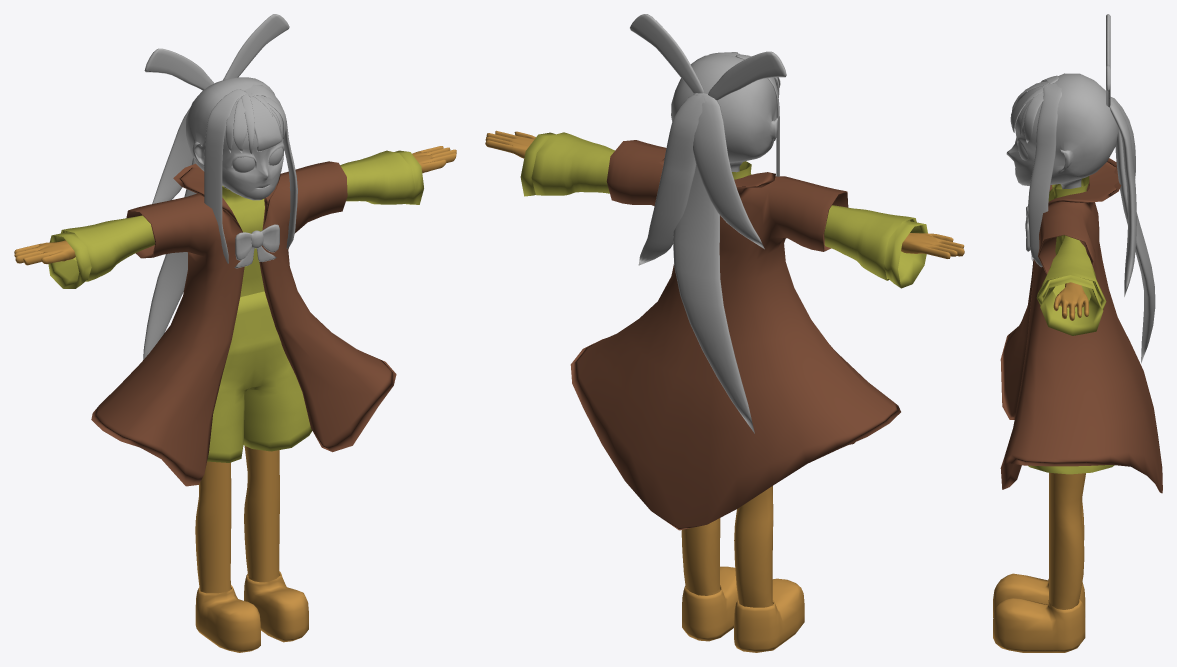
Rendered from shuzinkou_center.fbx.
3 views of the same model, side by side, from view 1: azimuth 30°, elevation 25°; view 2: azimuth 150°, elevation 25°; view 3: azimuth 270°, elevation 25° (orthographic). The views are drawn at different scales.
Visible parts, largest first — view 1: kao1, pCylinder2, pCylinder6, pCylinder5, pCube1, pasted__pCube1, ribon, pasted__pCylinder2, maegami1; view 2: kao1, pCylinder6, pasted__pCylinder5, pCylinder5, pCube1, pasted__pCube1; view 3: kao1, pasted__pCylinder2, pCylinder6, pasted__pCylinder5, pasted__pCylinder4, maegami1, pCylinder5.
Boxes of the visible parts, bbox=[...] form: kao1: bbox=[14, 77, 456, 652]; pCylinder2: bbox=[204, 89, 246, 263]; pCylinder6: bbox=[143, 158, 196, 359]; pCylinder5: bbox=[152, 107, 192, 203]; pCube1: bbox=[144, 48, 214, 90]; pasted__pCube1: bbox=[223, 14, 289, 79]; ribon: bbox=[234, 224, 279, 268]; pasted__pCylinder2: bbox=[244, 84, 297, 248]; maegami1: bbox=[250, 96, 281, 151]; kao1: bbox=[485, 54, 964, 652]; pCylinder6: bbox=[673, 165, 754, 433]; pasted__pCylinder5: bbox=[638, 93, 711, 265]; pCylinder5: bbox=[693, 93, 764, 249]; pCube1: bbox=[708, 51, 786, 100]; pasted__pCube1: bbox=[630, 14, 703, 93]; kao1: bbox=[993, 73, 1162, 652]; pasted__pCylinder2: bbox=[1028, 83, 1062, 267]; pCylinder6: bbox=[1115, 127, 1155, 363]; pasted__pCylinder5: bbox=[1109, 98, 1136, 296]; pasted__pCylinder4: bbox=[1024, 92, 1043, 143]; maegami1: bbox=[1010, 86, 1043, 132]; pCylinder5: bbox=[1110, 97, 1135, 178].
Size of the model in its own units: 98.41 by 124 by 31.99.
